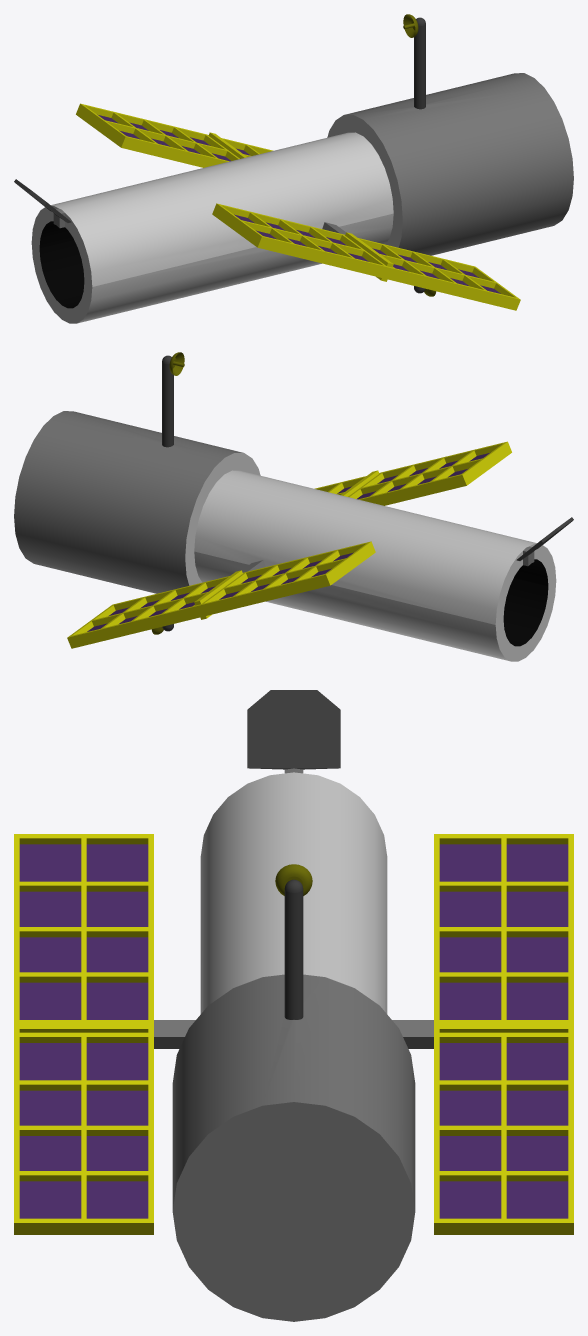
File: Hubble.fbx
The picture shows the model from 3 angles, top to bottom: view 1: azimuth 30°, elevation 25°; view 2: azimuth 150°, elevation 25°; view 3: azimuth 270°, elevation 25°; orthographic projection. The views are drawn at different scales.
Visible parts, largest first — view 1: Model; view 2: Model; view 3: Model.
Part boxes in pixels (x1,y1,x2,y2): Model: (14,14,573,323); Model: (14,352,573,661); Model: (14,690,573,1321).
Bounding box in the file's own units: 24.42 × 13 × 15.
